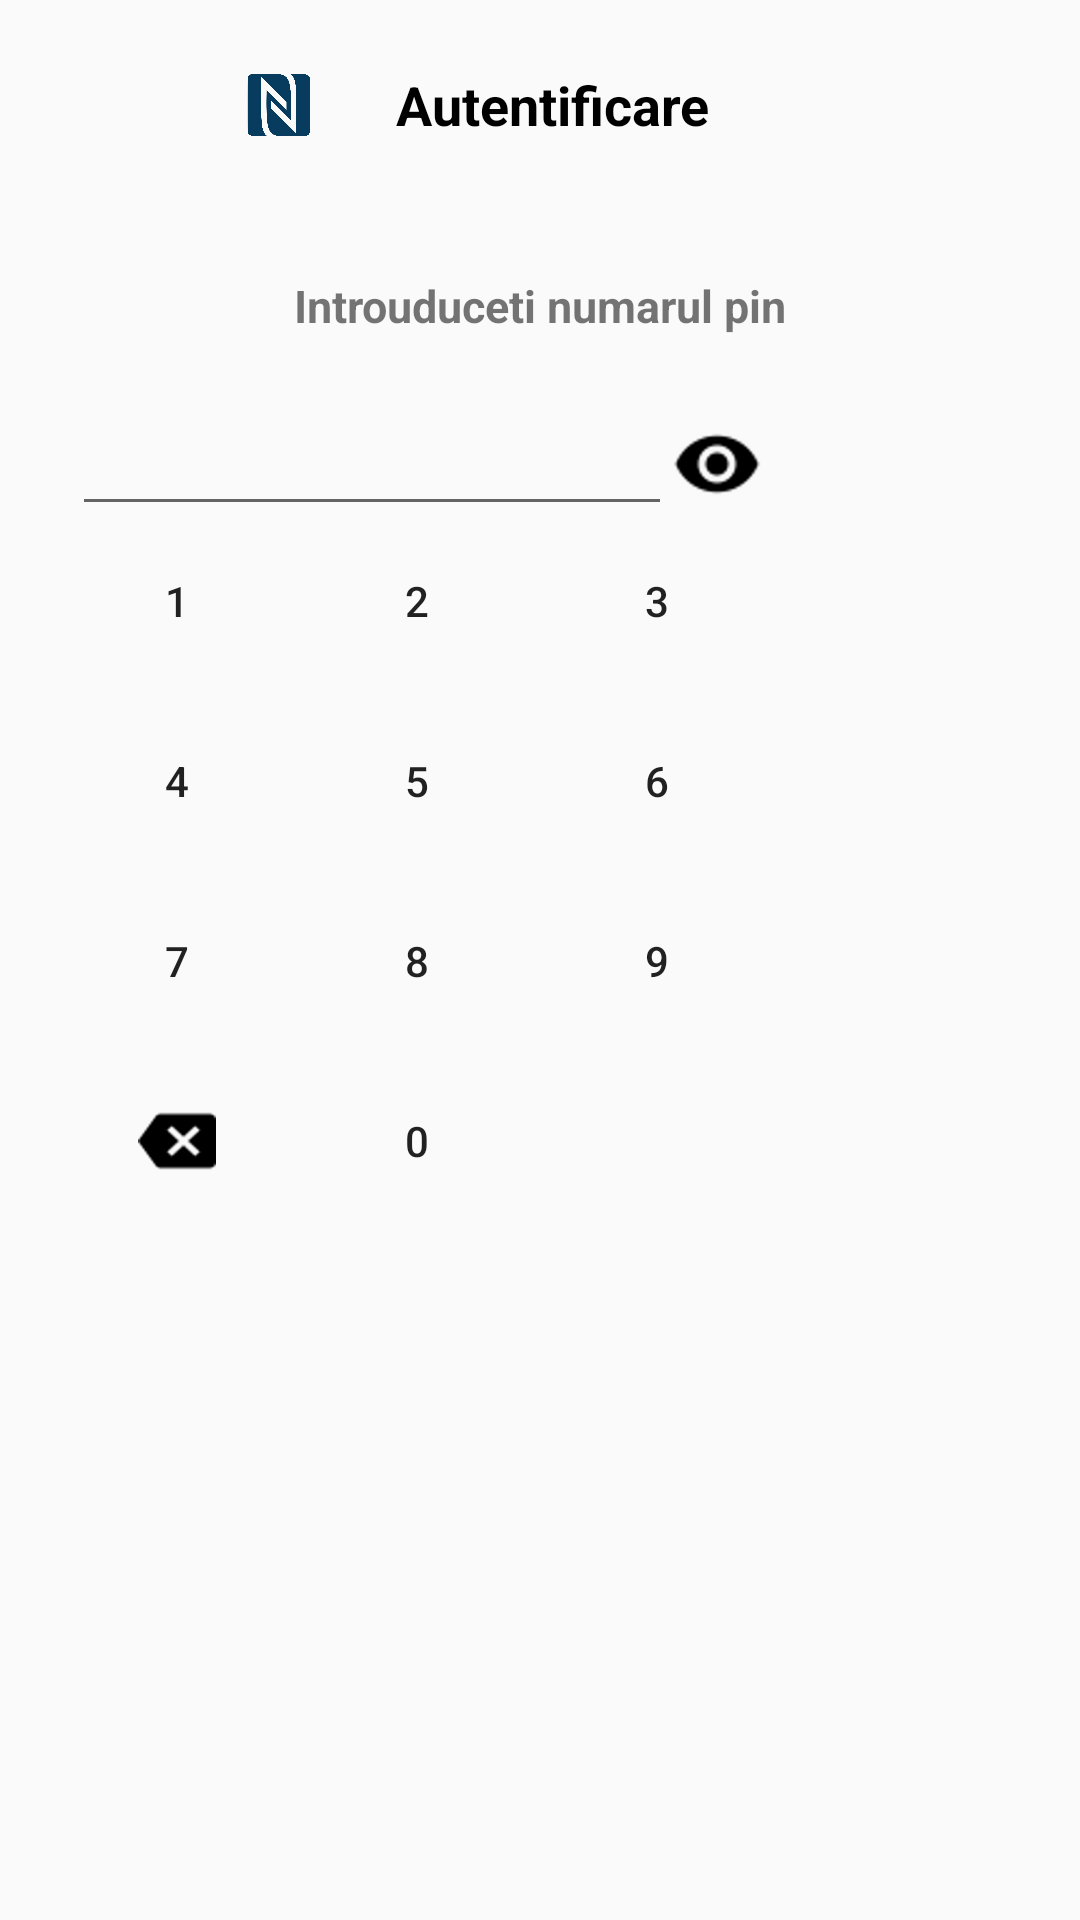

Where icons sit on this 1080 x 1920 app screen, as [x1,y1,x2,y2]:
backspace: [138,1112,216,1170]
visibility: [674,434,760,494]
